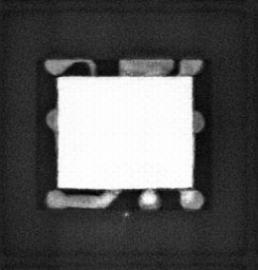DIE_INK: (123, 210, 130, 217)
